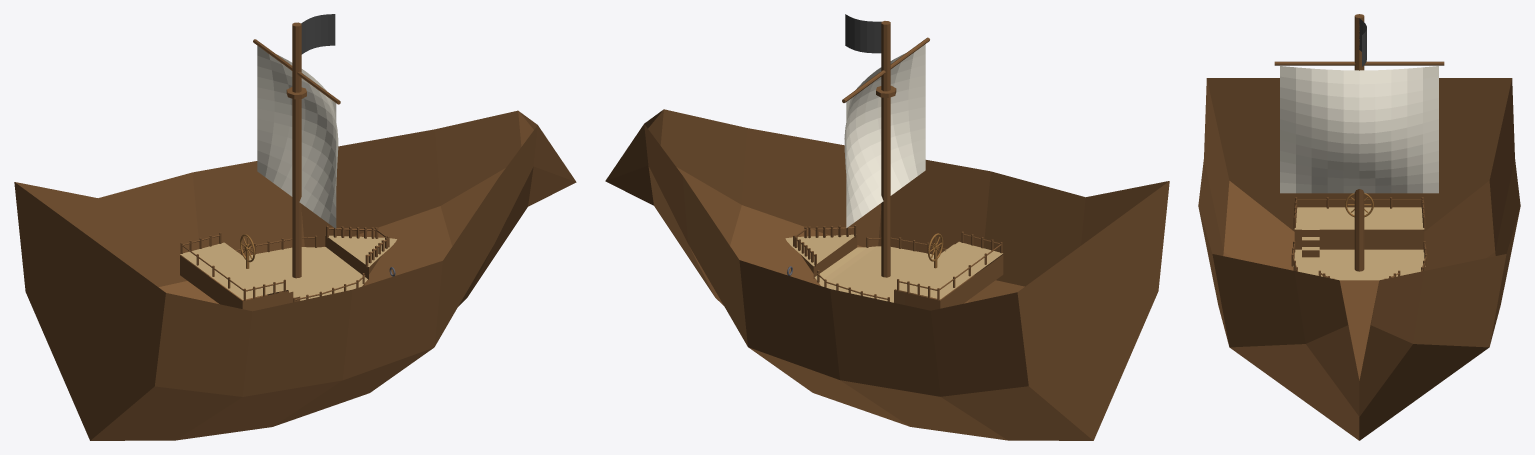
The model's file is grotto_ship_LOD0_roblox.fbx.
The picture shows the model from 3 angles, left to right: view 1: azimuth 30°, elevation 25°; view 2: azimuth 150°, elevation 25°; view 3: azimuth 270°, elevation 25°; orthographic projection.
Parts seen in each view (by area): view 1: Hull_M_Hull, Sail, Deck_Main, Deck_Stern, Mast, Sterncastle, Flag_Main, Deck_Bow, FC_AftWall; view 2: Hull_M_Hull, Sail, Deck_Main, Deck_Stern, Mast, Sterncastle, Flag_Main, Deck_Bow, FC_AftWall; view 3: Hull_M_Hull, Sail, Deck_Main, Deck_Stern, SC_FwdWall, Mast, Yard, Stairs_Starboard_M_Hull.
Part boxes in pixels (bbox=[...]): Hull_M_Hull: bbox=[14, 110, 576, 440]; Sail: bbox=[257, 46, 338, 228]; Deck_Main: bbox=[249, 247, 367, 300]; Deck_Stern: bbox=[180, 242, 288, 299]; Mast: bbox=[292, 22, 301, 278]; Sterncastle: bbox=[180, 255, 288, 311]; Flag_Main: bbox=[301, 14, 335, 54]; Deck_Bow: bbox=[328, 235, 396, 266]; FC_AftWall: bbox=[325, 235, 368, 279]; Hull_M_Hull: bbox=[605, 109, 1169, 440]; Sail: bbox=[844, 44, 925, 227]; Deck_Main: bbox=[814, 246, 933, 302]; Deck_Stern: bbox=[894, 241, 1002, 299]; Mast: bbox=[881, 21, 890, 277]; Sterncastle: bbox=[894, 254, 1003, 310]; Flag_Main: bbox=[845, 14, 881, 53]; Deck_Bow: bbox=[785, 234, 854, 266]; FC_AftWall: bbox=[813, 235, 857, 278]; Hull_M_Hull: bbox=[1198, 78, 1520, 440]; Sail: bbox=[1280, 66, 1438, 193]; Deck_Main: bbox=[1293, 249, 1425, 280]; Deck_Stern: bbox=[1294, 207, 1424, 229]; SC_FwdWall: bbox=[1294, 230, 1424, 249]; Mast: bbox=[1354, 14, 1364, 271]; Yard: bbox=[1274, 61, 1444, 65]; Stairs_Starboard_M_Hull: bbox=[1302, 230, 1319, 257].
Size of the model in its own units: 20 by 11.4 by 15.58.
